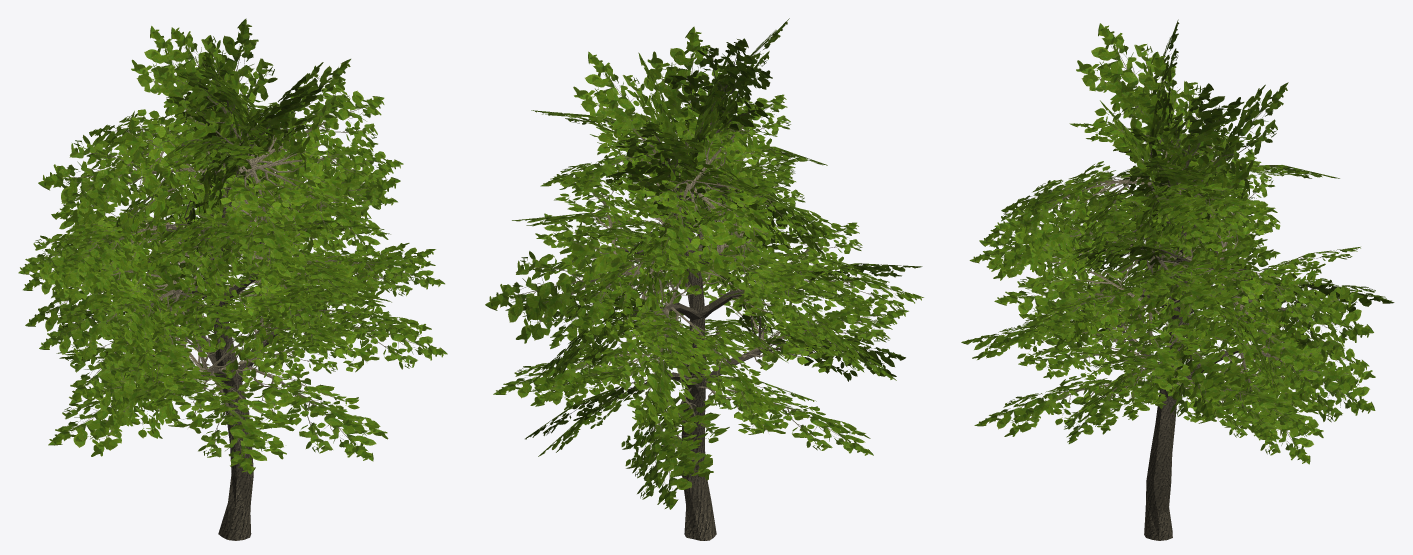
File: appletree.obj
3 renders of one model, left to right at view 1: azimuth 30°, elevation 25°; view 2: azimuth 150°, elevation 25°; view 3: azimuth 270°, elevation 25°, orthographic. The views are drawn at different scales.
Parts seen in each view (by area): view 1: appletreemesh; view 2: appletreemesh; view 3: appletreemesh.
Part boxes in pixels (x1,y1,x2,y2): appletreemesh: (18, 18, 447, 540); appletreemesh: (485, 18, 923, 540); appletreemesh: (961, 19, 1394, 540).
Bounding box in the file's own units: 8.01 × 10.5 × 8.49.
2 materials, 2 textured.
